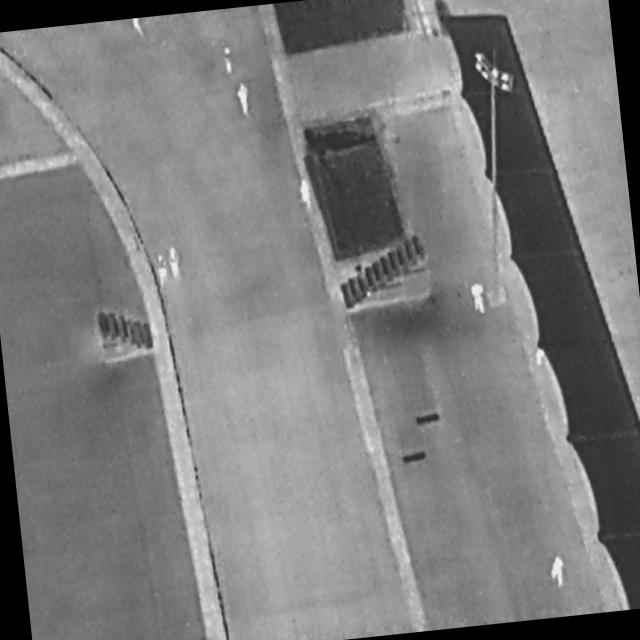person: (468, 279, 490, 318), (235, 81, 254, 117), (548, 555, 568, 589), (166, 243, 183, 282), (154, 253, 171, 292), (297, 177, 315, 212), (221, 44, 236, 78), (130, 18, 146, 39)
